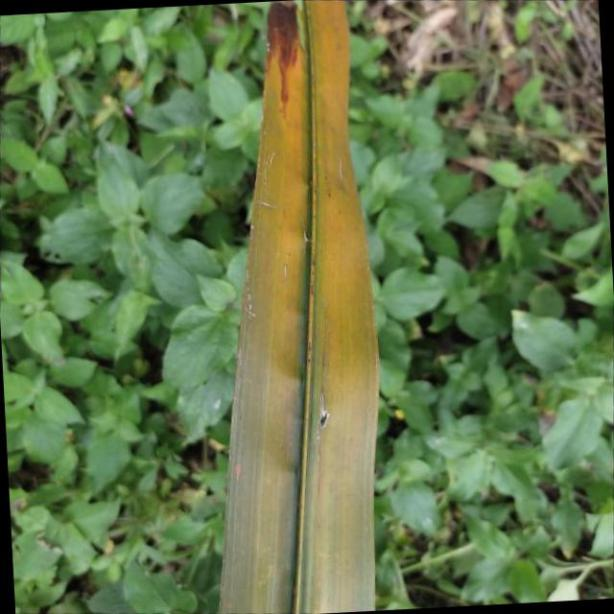Megnesium: (217, 1, 377, 614)
